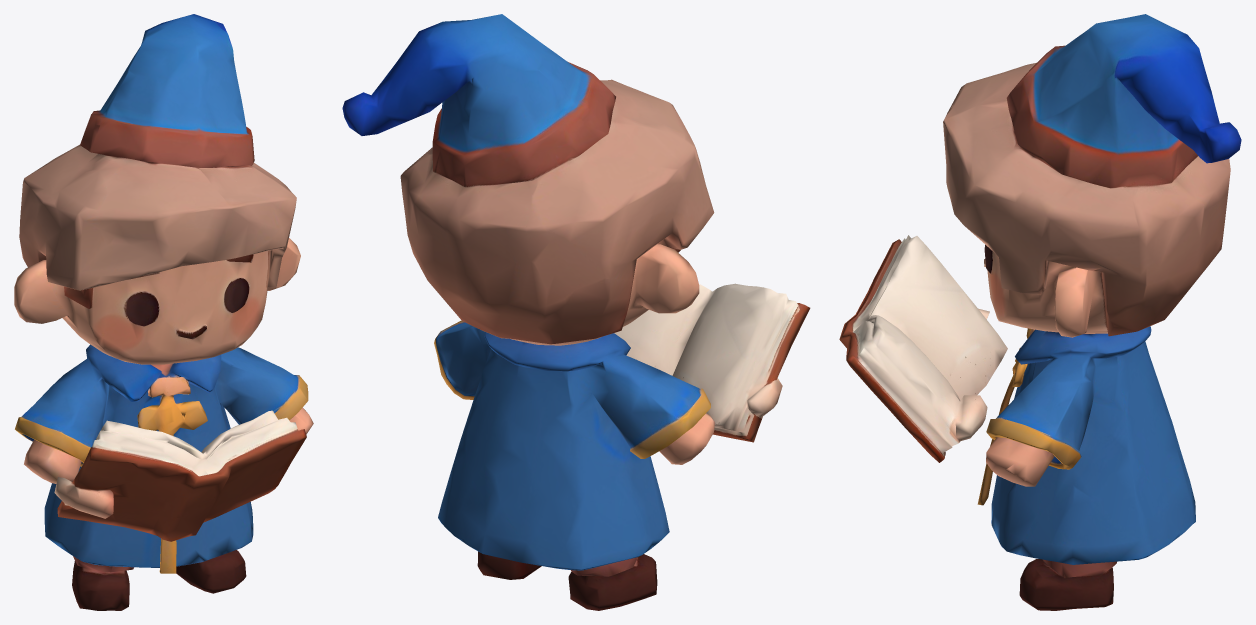
The model's file is scholar.glb.
3 views of the same model, side by side, from view 1: azimuth 30°, elevation 25°; view 2: azimuth 150°, elevation 25°; view 3: azimuth 270°, elevation 25° (orthographic). The views are drawn at different scales.
Parts seen in each view (by area): view 1: tripo_node_868b3b12-6825-439e-ae0d-5aa17140c555; view 2: tripo_node_868b3b12-6825-439e-ae0d-5aa17140c555; view 3: tripo_node_868b3b12-6825-439e-ae0d-5aa17140c555.
Part boxes in pixels (x1=…): tripo_node_868b3b12-6825-439e-ae0d-5aa17140c555: x1=14, y1=14, x2=313, y2=610; tripo_node_868b3b12-6825-439e-ae0d-5aa17140c555: x1=342, y1=14, x2=810, y2=610; tripo_node_868b3b12-6825-439e-ae0d-5aa17140c555: x1=839, y1=14, x2=1241, y2=610.
Size of the model in its own units: 0.5738 by 1 by 0.6277.
1 material, 1 textured.
